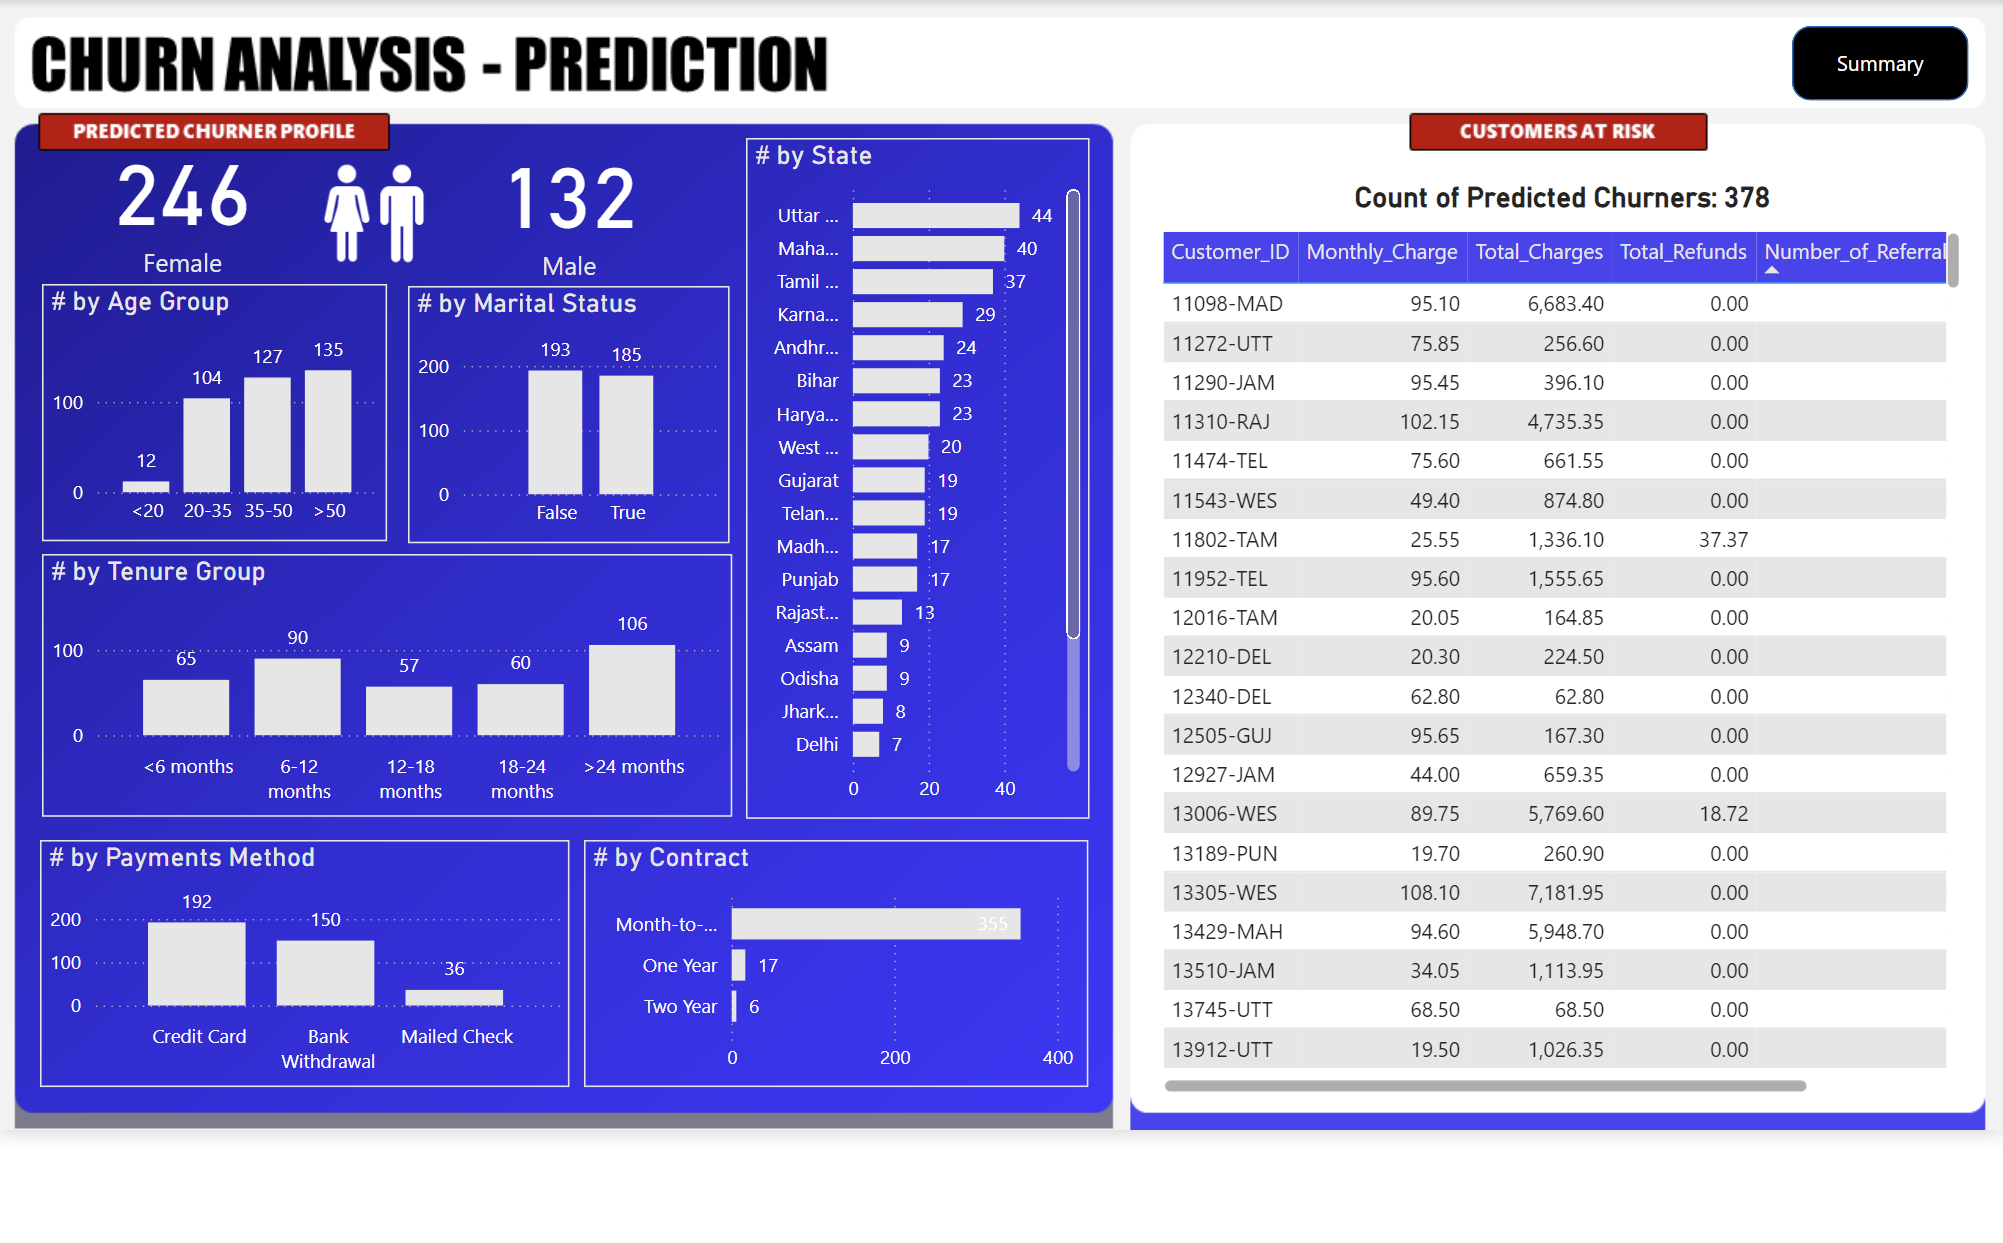

The dashboard page shown, as its layout file describes it:
{"tool":"powerbi","page":{"name":"Churn Prediction","canvas":[1280,720],"ordinal":2},"visuals":[{"type":"tableEx","fields":{"Values":["prod_Churn.Customer_ID","prod_Churn.Monthly_Charge","prod_Churn.Total_Charges","prod_Churn.Total_Refunds","prod_Churn.Number_of_Referrals","prod_Churn.Total_Revenue"]},"box":[738.8,142.5,518.8,558.8],"z":0},{"type":"card","fields":{"Values":["tbl_Measure.Title Predicted Churner"]},"box":[851.2,110,293.8,32.5],"z":1000},{"type":"card","fields":{"Values":["tbl_Measure.Count Predicted Churner"]},"box":[42.5,75,153.8,106.2],"z":2000},{"type":"card","fields":{"Values":["tbl_Measure.Count Predicted Churner"]},"box":[301.2,77.5,128.8,105],"z":3000},{"type":"clusteredColumnChart","title":"# by Age Group","fields":{"Category":["Mapping_AgeGrp.Age Group"],"Y":["CountNonNull(Predictions.Customer_ID)"]},"box":[28.8,181.2,220,163.8],"z":4000},{"type":"clusteredColumnChart","title":"# by Marital Status","fields":{"Category":["Predictions.Married"],"Y":["CountNonNull(Predictions.Customer_ID)"]},"box":[262.5,182.5,205,163.8],"z":5000},{"type":"clusteredColumnChart","title":"# by Tenure Group","fields":{"Y":["CountNonNull(Predictions.Customer_ID)"],"Category":["Mapping_TenureGrp.Tenure Group"]},"box":[28.8,353.8,440,167.5],"z":6000},{"type":"clusteredColumnChart","title":"# by Payments Method","fields":{"Y":["CountNonNull(Predictions.Customer_ID)"],"Category":["Predictions.Payment_Method"]},"box":[27.5,535,337.5,157.5],"z":7000},{"type":"clusteredBarChart","title":"# by Contract","fields":{"Category":["Predictions.Contract"],"Y":["CountNonNull(Predictions.Customer_ID)"]},"box":[375,535,321.2,157.5],"z":8000},{"type":"clusteredBarChart","title":"# by State","fields":{"Category":["Predictions.State"],"Y":["CountNonNull(Predictions.Customer_ID)"]},"box":[477.5,87.5,218.8,433.8],"z":9000},{"type":"image","box":[196.2,87.5,88.8,95],"z":10000},{"type":"shape","box":[1145,16.2,112.5,47.5],"z":11000}]}

Visuals, with their boxes on the page's 1280x720 design canvas (x1, y1, x2, y2). These are canvas units, not pixel positions in the 2003x1243 screenshot, which may show the page scaled, cropped or inside an application window:
tableEx - prod_Churn.Customer_ID x prod_Churn.Monthly_Charge: <box>739,142,1258,701</box>
card - tbl_Measure.Title Predicted Churner: <box>851,110,1145,142</box>
card - tbl_Measure.Count Predicted Churner: <box>42,75,196,181</box>
card - tbl_Measure.Count Predicted Churner: <box>301,78,430,182</box>
"# by Age Group" clusteredColumnChart: <box>29,181,249,345</box>
"# by Marital Status" clusteredColumnChart: <box>262,182,468,346</box>
"# by Tenure Group" clusteredColumnChart: <box>29,354,469,521</box>
"# by Payments Method" clusteredColumnChart: <box>28,535,365,692</box>
"# by Contract" clusteredBarChart: <box>375,535,696,692</box>
"# by State" clusteredBarChart: <box>478,88,696,521</box>
image: <box>196,88,285,182</box>
shape: <box>1145,16,1258,64</box>
